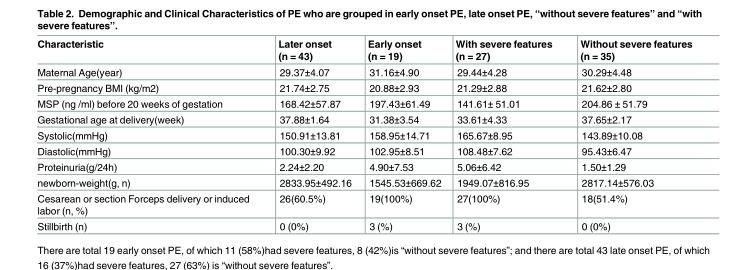table: (36, 37, 691, 231)
table column: (36, 37, 263, 231), (565, 37, 691, 231), (447, 37, 565, 231), (263, 37, 358, 231), (358, 37, 447, 231)
table column header: (36, 37, 691, 63)
table row: (36, 190, 691, 217), (36, 37, 691, 63), (36, 63, 691, 79), (36, 79, 691, 95), (36, 95, 691, 111), (36, 126, 691, 142), (36, 142, 691, 158), (36, 158, 691, 174), (36, 174, 691, 190), (36, 111, 691, 126), (36, 217, 691, 231)
